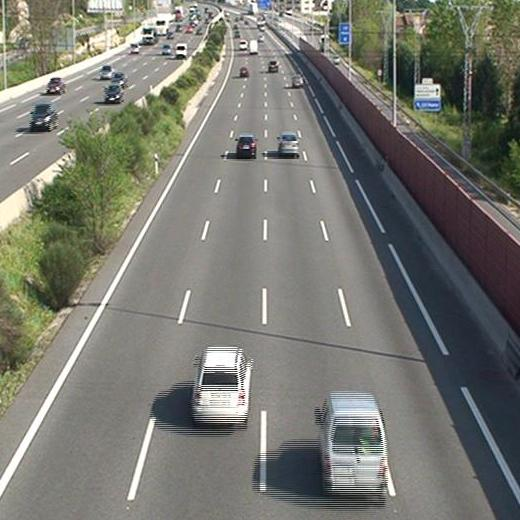car: (194, 349, 248, 421), (278, 132, 298, 157), (237, 135, 255, 155), (267, 60, 278, 71), (292, 75, 303, 85), (238, 68, 248, 77)
van: (320, 394, 387, 495)
